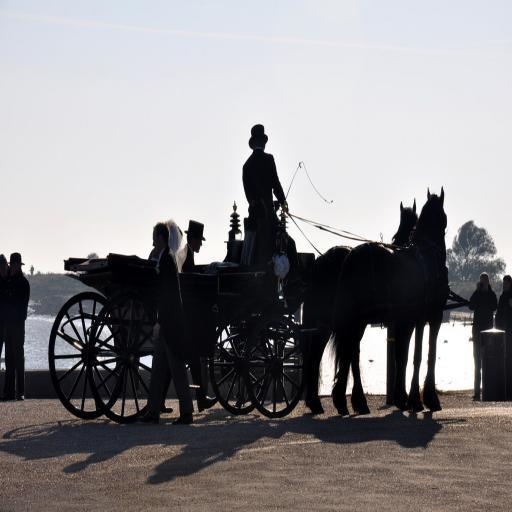horse: (331, 185, 450, 414), (300, 196, 419, 416)
